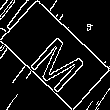M_NE: (22, 21, 88, 89)
